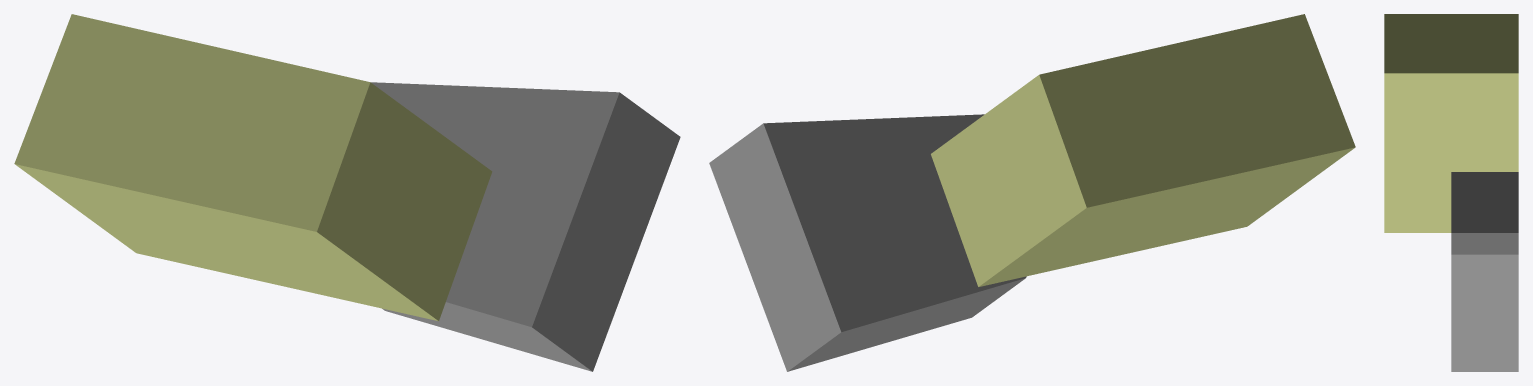
3 views of the same model, side by side, from view 1: azimuth 30°, elevation 25°; view 2: azimuth 150°, elevation 25°; view 3: azimuth 270°, elevation 25° (orthographic). The views are drawn at different scales.
Parts seen in each view (by area): view 1: 0_1_0_0_0_1_2_1_3_3; view 2: 0_1_0_0_0_1_2_1_3_3; view 3: 0_1_0_0_0_1_2_1_3_3.
Part boxes in pixels (box(x1,y1,x2,y2)): 0_1_0_0_0_1_2_1_3_3: box(14, 14, 680, 371); 0_1_0_0_0_1_2_1_3_3: box(709, 14, 1355, 371); 0_1_0_0_0_1_2_1_3_3: box(1384, 14, 1518, 371).
Bounding box in the file's own units: 17.19 × 11.55 × 6.
